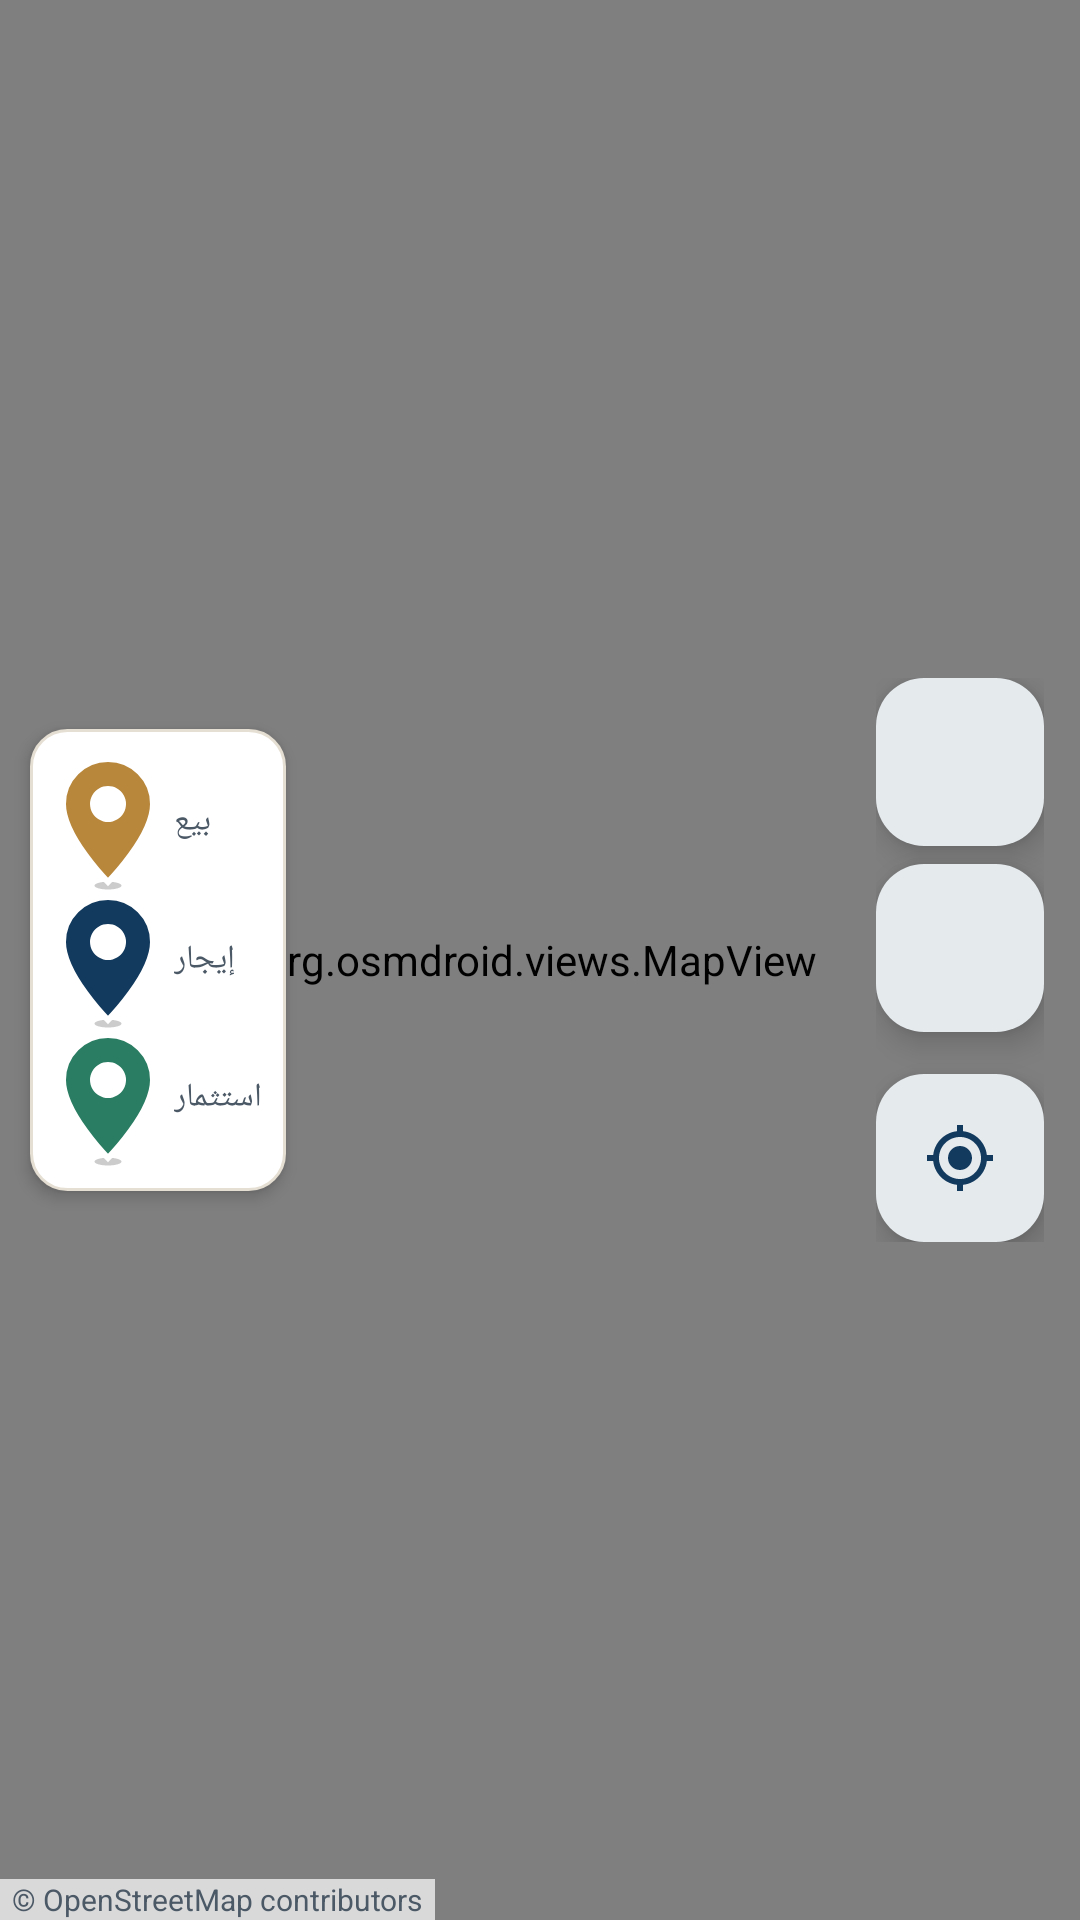

Icons on this 1080x1920 Android screen, each with its box as (x1, y1, x2, y2):
موقعي الحالي: (876, 1074, 1044, 1242)
